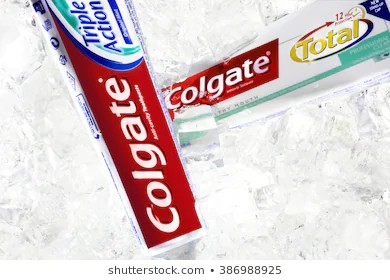colgate-total-150gm: (163, 1, 388, 143)
